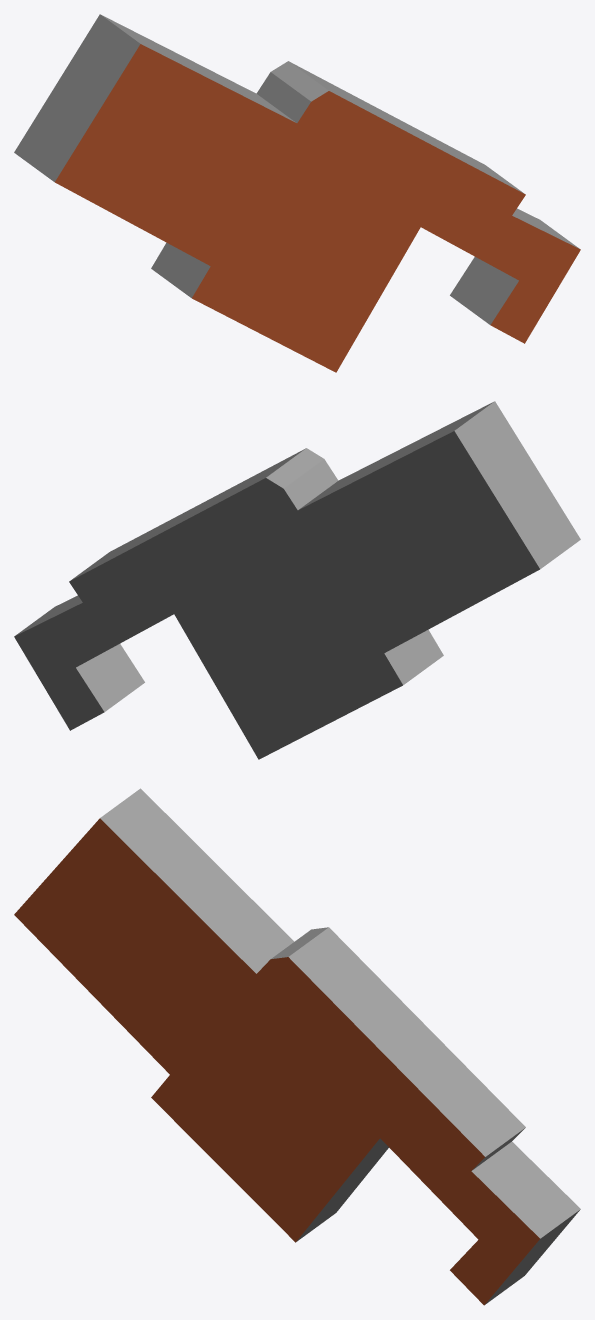
Rendered from construction_5831_assumed_A_Casa_h6m.obj.
3 views of the same model, one above another, from view 1: azimuth 30°, elevation 25°; view 2: azimuth 150°, elevation 25°; view 3: azimuth 330°, elevation 25° (orthographic).
Parts seen in each view (by area): view 1: construction_5831_assumed_A_Casa; view 2: construction_5831_assumed_A_Casa; view 3: construction_5831_assumed_A_Casa.
Part boxes in pixels (x1=…): construction_5831_assumed_A_Casa: x1=14, y1=14, x2=580, y2=372; construction_5831_assumed_A_Casa: x1=14, y1=401, x2=580, y2=759; construction_5831_assumed_A_Casa: x1=14, y1=788, x2=580, y2=1305.
Size of the model in its own units: 44.83 by 32.04 by 6.
